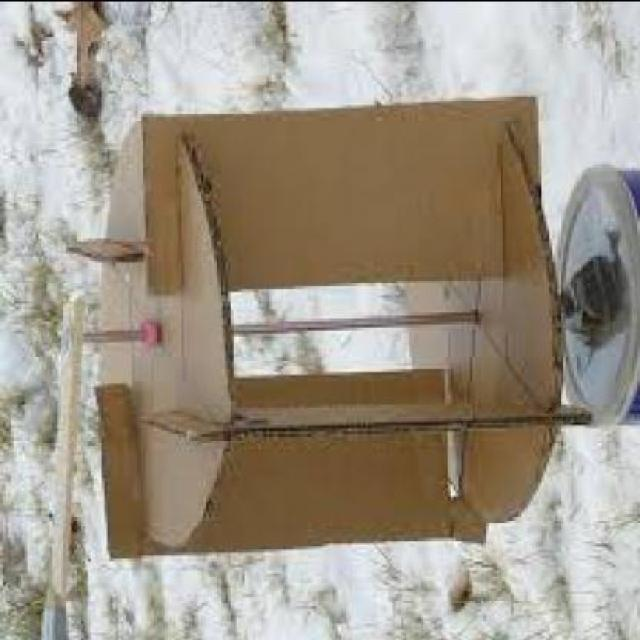CARDBOARD: (66, 98, 563, 562), (138, 95, 544, 299), (91, 368, 489, 560), (406, 130, 560, 524), (93, 118, 232, 540), (134, 373, 586, 447), (75, 3, 110, 89), (60, 236, 140, 267)
